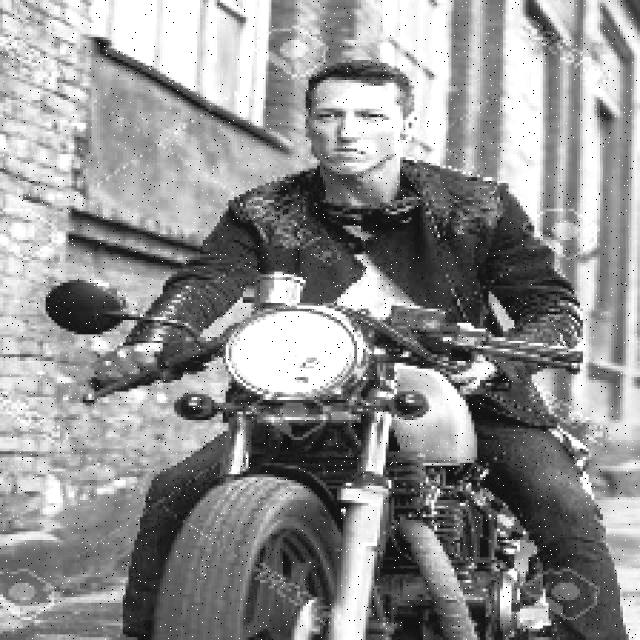Bike: (122, 289, 548, 640)
